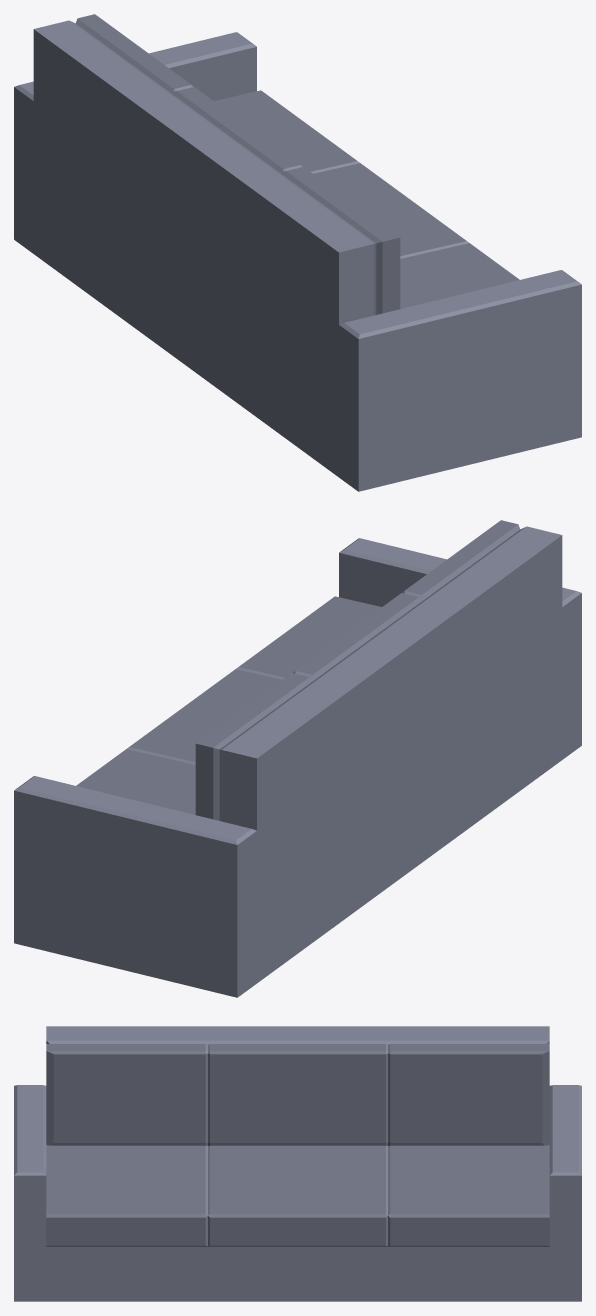
File: sofa.fbx
3 renders of one model, top to bottom at view 1: azimuth 30°, elevation 25°; view 2: azimuth 150°, elevation 25°; view 3: azimuth 270°, elevation 25°, orthographic. The views are drawn at different scales.
Parts seen in each view (by area): view 1: sofa; view 2: sofa; view 3: sofa.
Part boxes in pixels (box(x1,y1,x2,y2)): sofa: box(14, 14, 581, 491); sofa: box(14, 520, 581, 997); sofa: box(14, 1026, 581, 1301).
Bounding box in the file's own units: 117 × 110 × 304.
